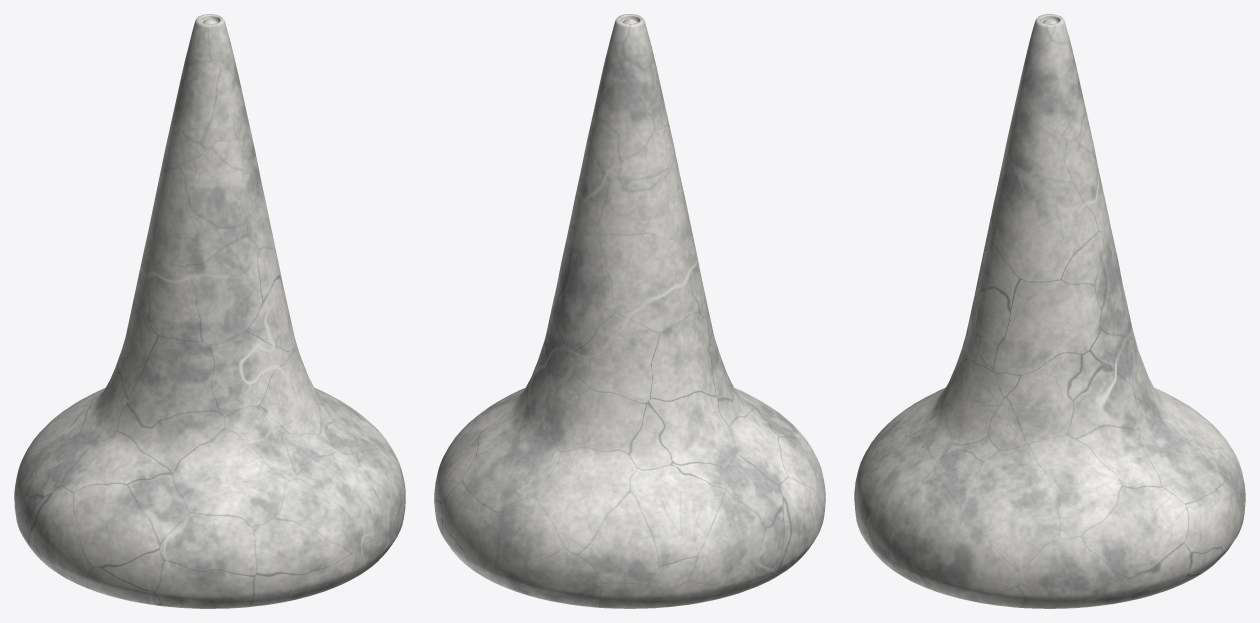
File: pawn-white.glb
3 renders of one model, left to right at view 1: azimuth 30°, elevation 25°; view 2: azimuth 150°, elevation 25°; view 3: azimuth 270°, elevation 25°, orthographic.
Visible parts, largest first — view 1: Serpentina_pawn_white; view 2: Serpentina_pawn_white; view 3: Serpentina_pawn_white.
Boxes of the visible parts, <box> form: Serpentina_pawn_white: <box>14,14,405,608</box>; Serpentina_pawn_white: <box>434,14,825,608</box>; Serpentina_pawn_white: <box>854,14,1245,608</box>.
Size of the model in its own units: 0.6549 by 0.95 by 0.6551.
1 material, 1 textured.
